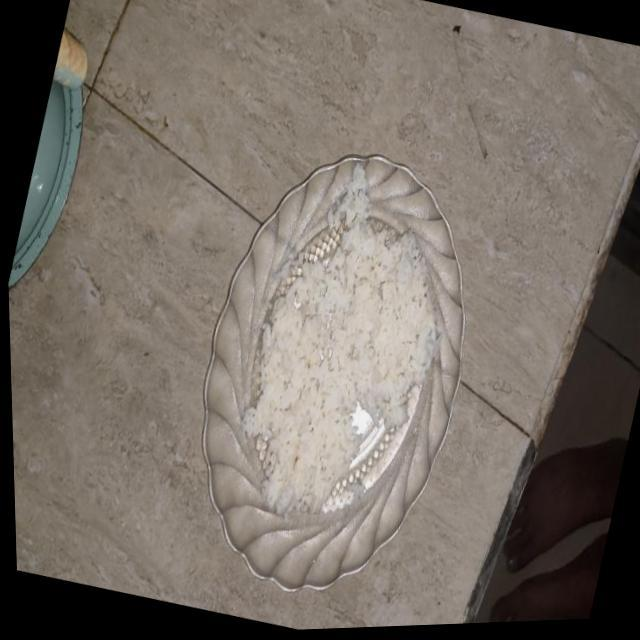nasi_putih: (242, 163, 439, 514)
